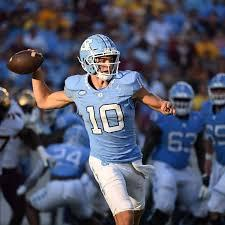americanFootball: (7, 47, 43, 74)
